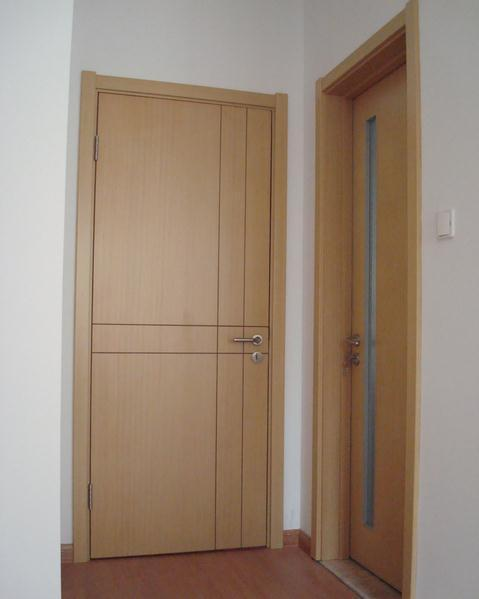door: (93, 93, 268, 551), (346, 83, 410, 577)
